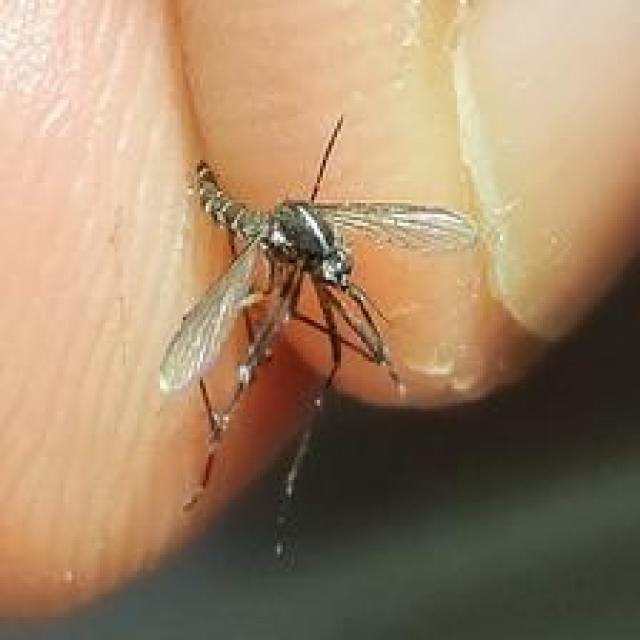Aedes albopictus: (157, 112, 480, 514)
